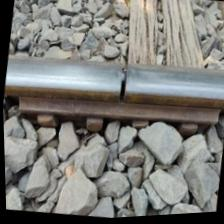person: (89, 50, 158, 120)
